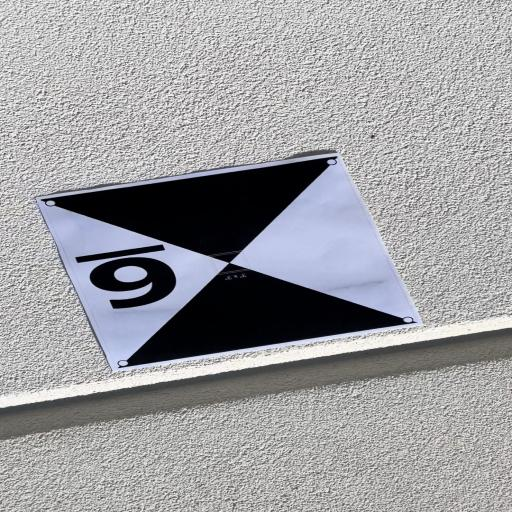target6: (34, 153, 423, 372)
